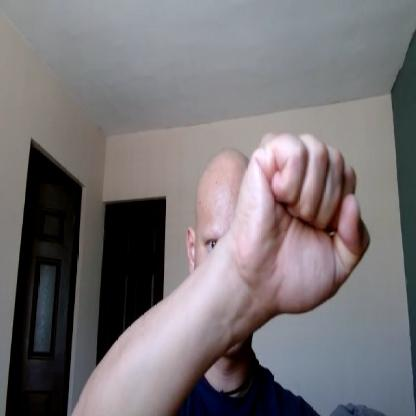S: (236, 126, 371, 315)
